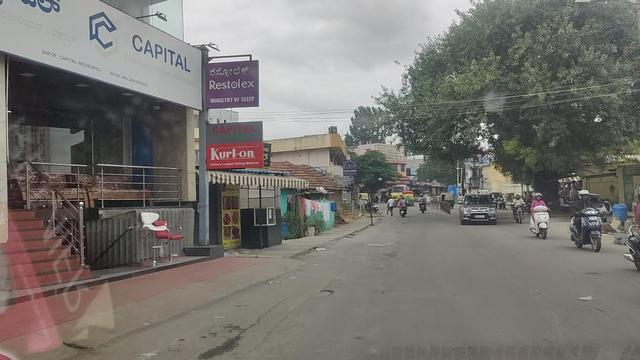RoadDamages: (239, 319, 302, 360), (368, 254, 396, 278), (283, 297, 311, 316), (361, 239, 394, 251), (319, 287, 338, 300)
